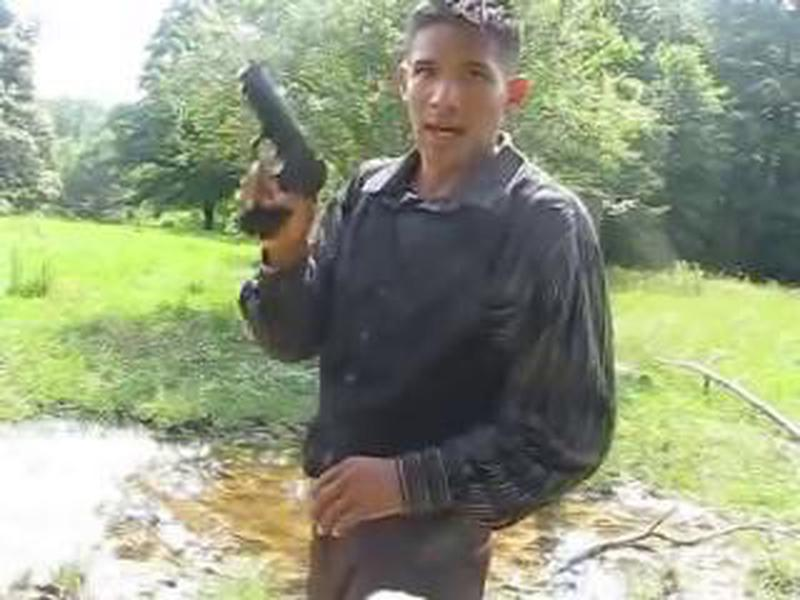Pistola: (202, 61, 323, 237)
